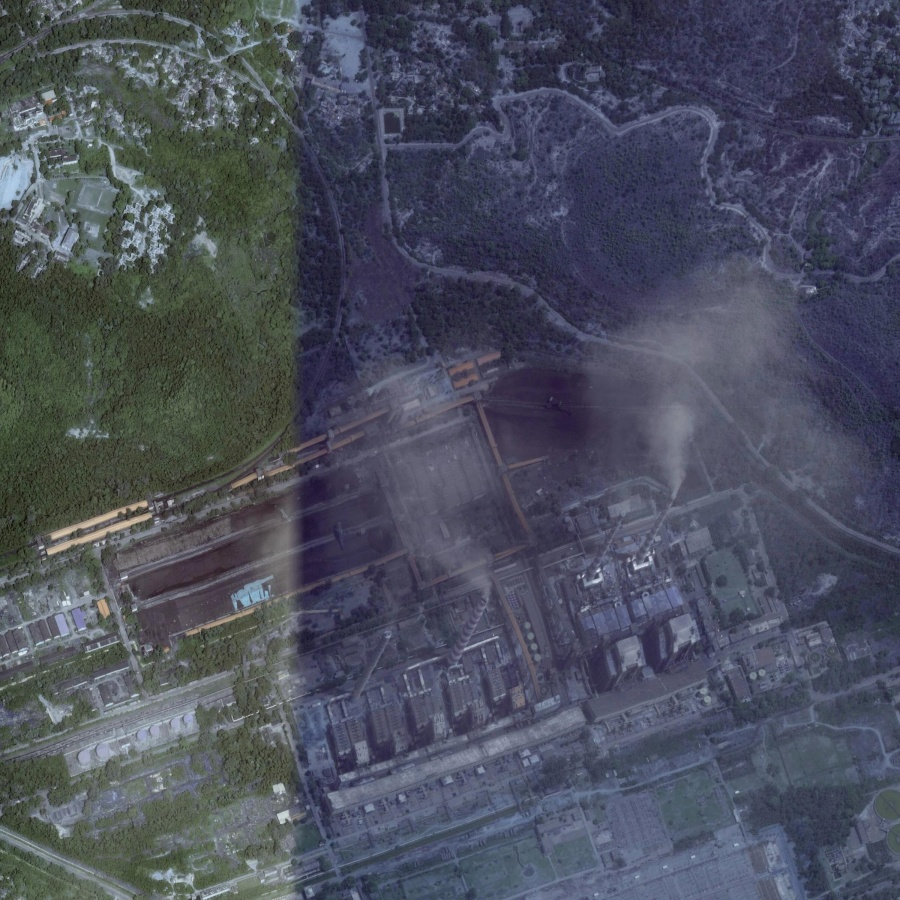PowerPlant: (324, 346, 779, 759)
